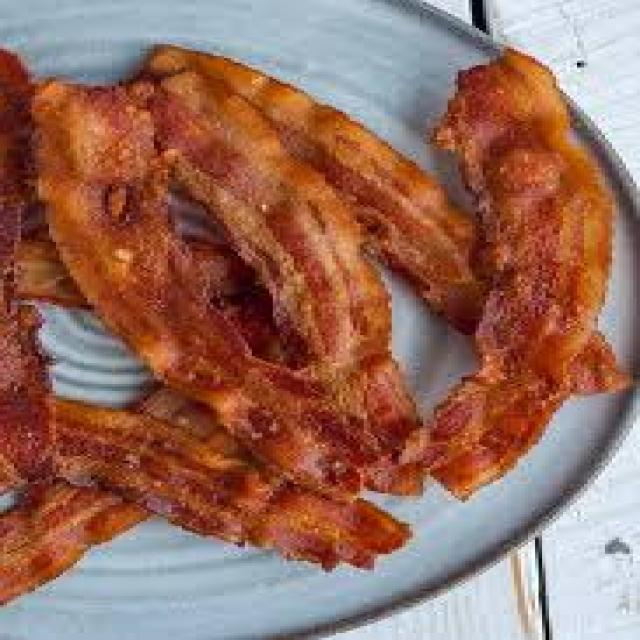Bacon: (34, 81, 413, 491), (145, 46, 419, 459), (148, 46, 483, 332), (430, 49, 627, 498), (56, 389, 409, 568)
